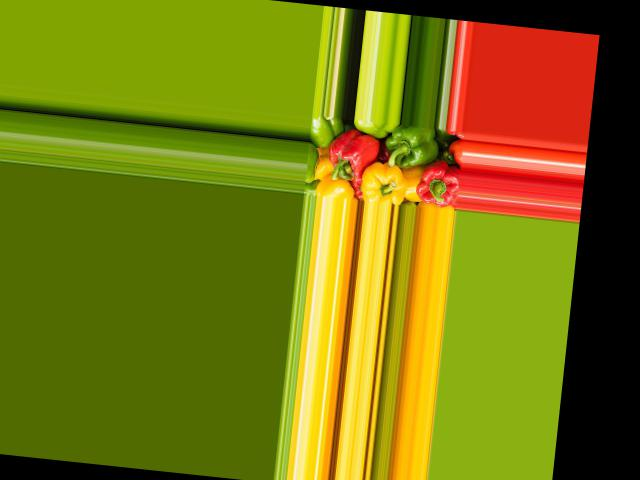bell_pepper: (409, 157, 460, 209)
